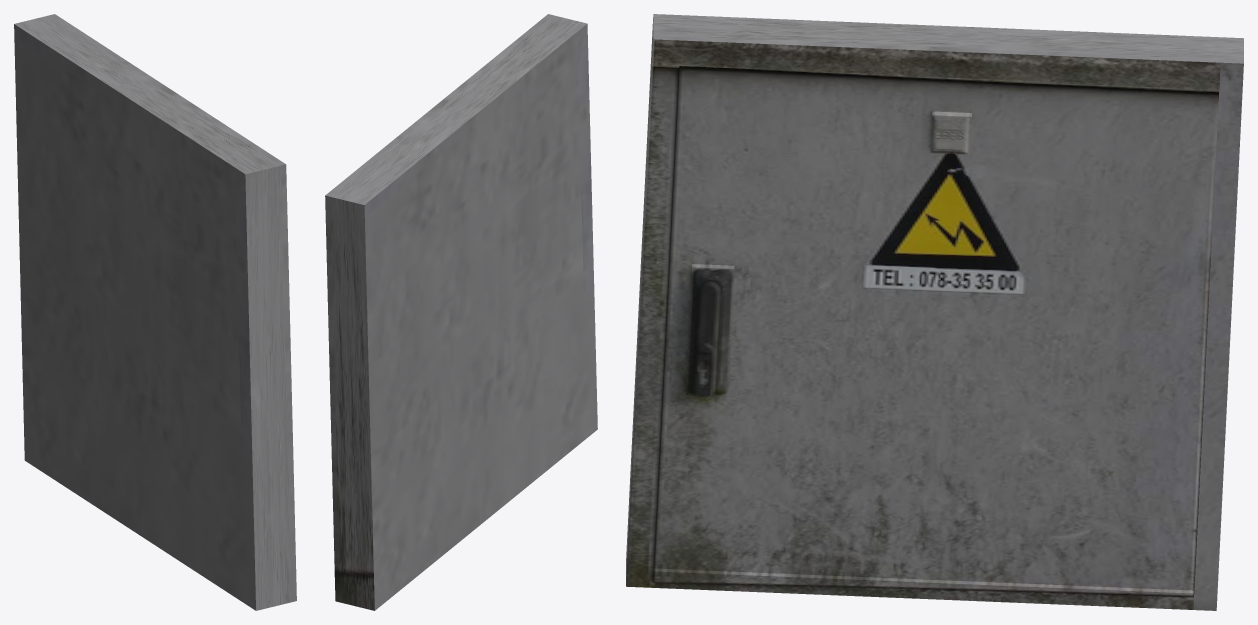
Rendered from electric_box.glb.
3 views of the same model, side by side, from view 1: azimuth 30°, elevation 25°; view 2: azimuth 150°, elevation 25°; view 3: azimuth 270°, elevation 25° (orthographic). The views are drawn at different scales.
Visible parts, largest first — view 1: Cube_0; view 2: Cube_0; view 3: Cube_0.
Part boxes in pixels (left/top/right/bottom): Cube_0: left=14, top=14, right=296, bottom=610; Cube_0: left=325, top=14, right=597, bottom=610; Cube_0: left=626, top=14, right=1243, bottom=610.
Bounding box in the file's own units: 0.1869 × 1.9 × 1.86.
1 material, 1 textured.
